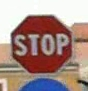stop: (9, 12, 72, 74)
